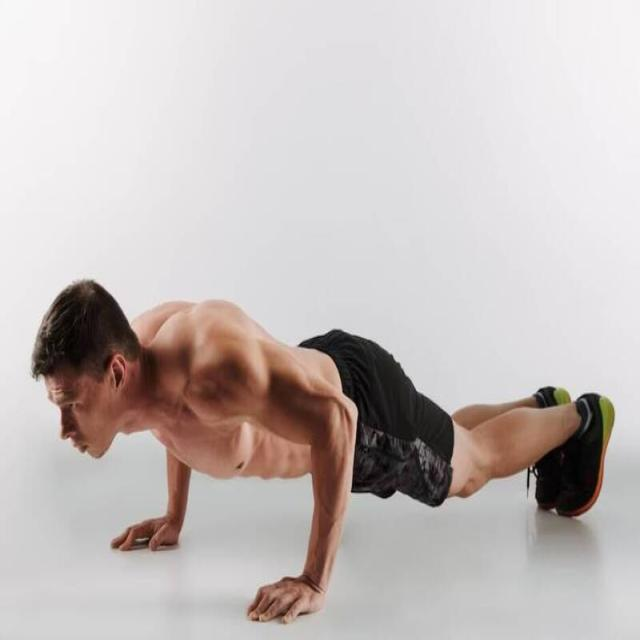lie: (22, 269, 628, 535)
